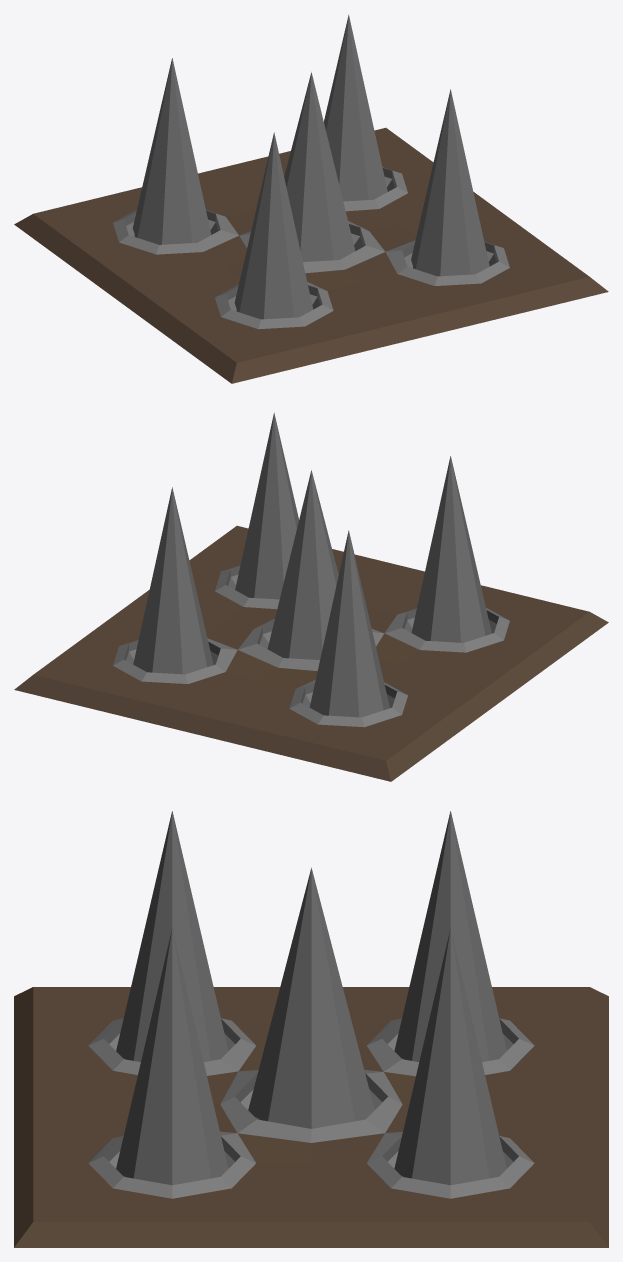
The model's file is Spike_Trap.fbx.
3 views of the same model, one above another, from view 1: azimuth 30°, elevation 25°; view 2: azimuth 150°, elevation 25°; view 3: azimuth 270°, elevation 25° (orthographic). The views are drawn at different scales.
Visible parts, largest first — view 1: Trap_Base, Spike; view 2: Trap_Base, Spike; view 3: Trap_Base, Spike.
Part boxes in pixels (x1,y1,x2,y2): Trap_Base: [14, 127, 608, 383]; Spike: [132, 14, 489, 319]; Trap_Base: [14, 525, 608, 781]; Spike: [133, 412, 491, 717]; Trap_Base: [14, 987, 608, 1247]; Spike: [116, 811, 506, 1185].
Bounding box in the file's own units: 214 × 128 × 214.
